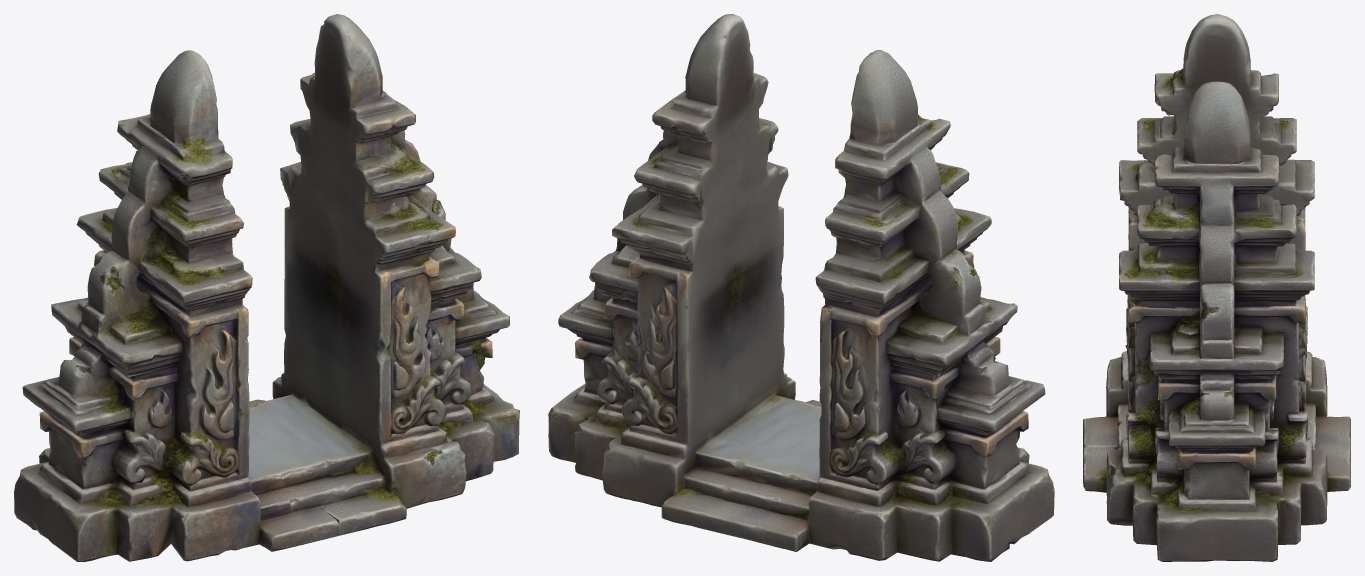
Rendered from arch.glb.
3 renders of one model, left to right at view 1: azimuth 30°, elevation 25°; view 2: azimuth 150°, elevation 25°; view 3: azimuth 270°, elevation 25°, orthographic. The views are drawn at different scales.
Visible parts, largest first — view 1: gate; view 2: gate; view 3: gate.
Part boxes in pixels (x1,y1,x2,y2): gate: (14, 14, 519, 561); gate: (548, 14, 1054, 561); gate: (1083, 14, 1350, 561).
Bounding box in the file's own units: 7.16 × 7 × 4.09.
1 material, 1 textured.
